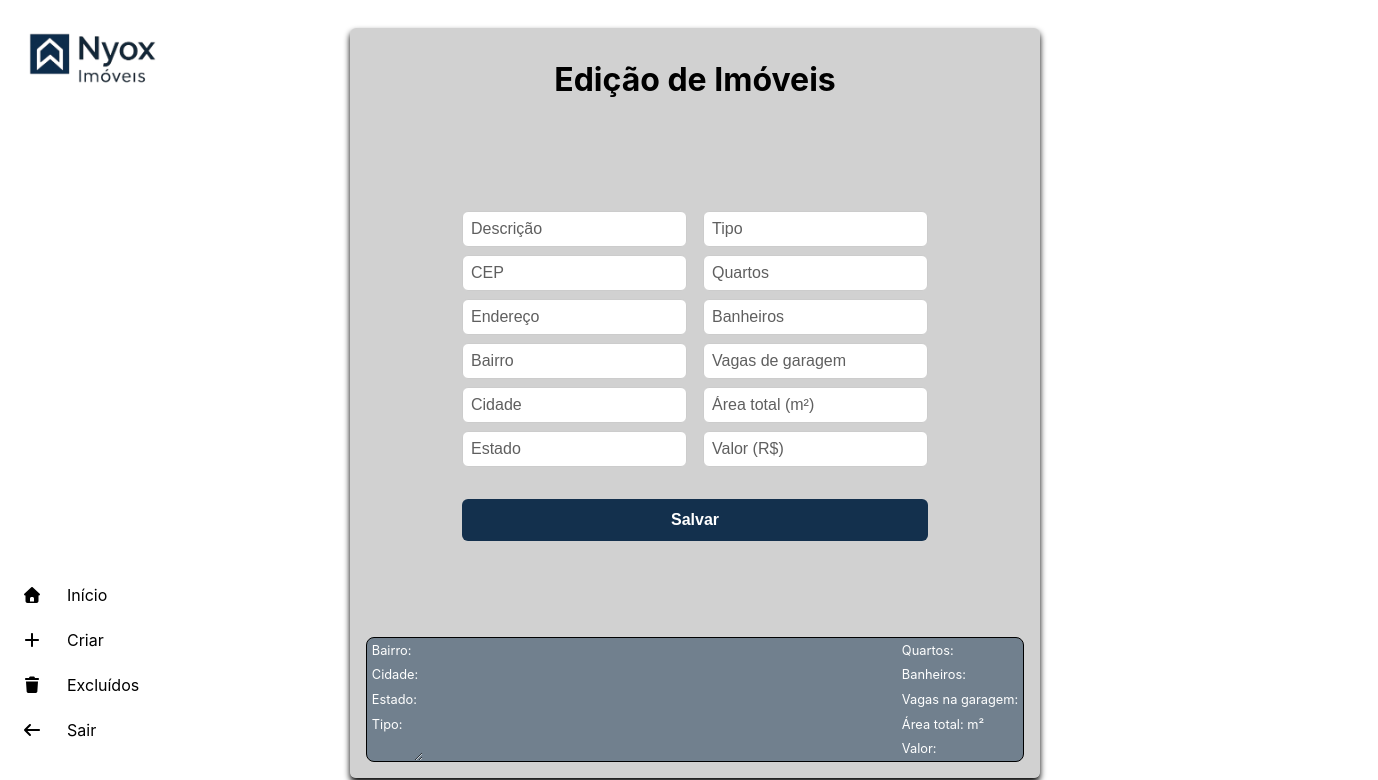
Scenario: EditItem Page › deve consultar CEP e preencher o endereço
Type "30000000" into the number field with placeholder "CEP".
click(574, 273); type("30000000")  # box x1=462 y1=255 x2=687 y2=291
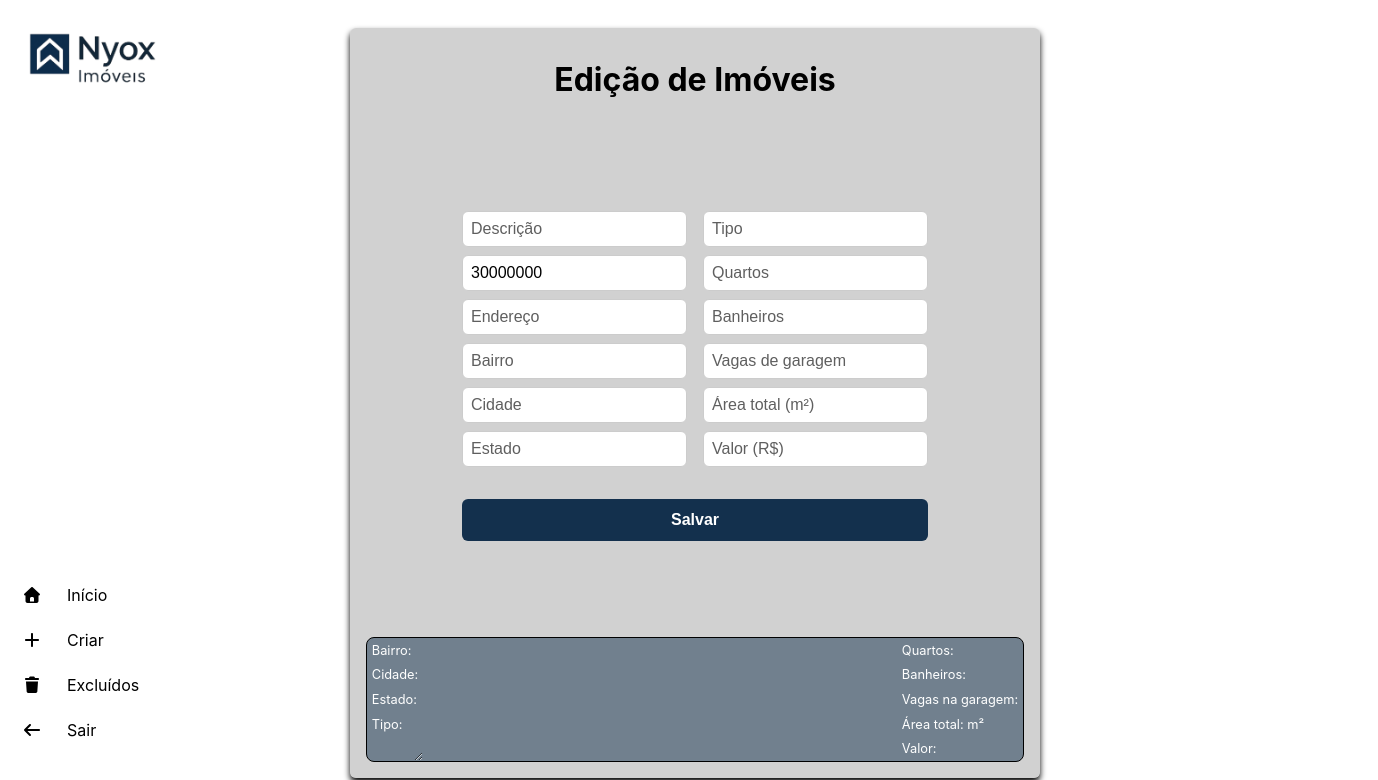
Leave the number field with placeholder "CEP", box x1=462 y1=255 x2=687 y2=291
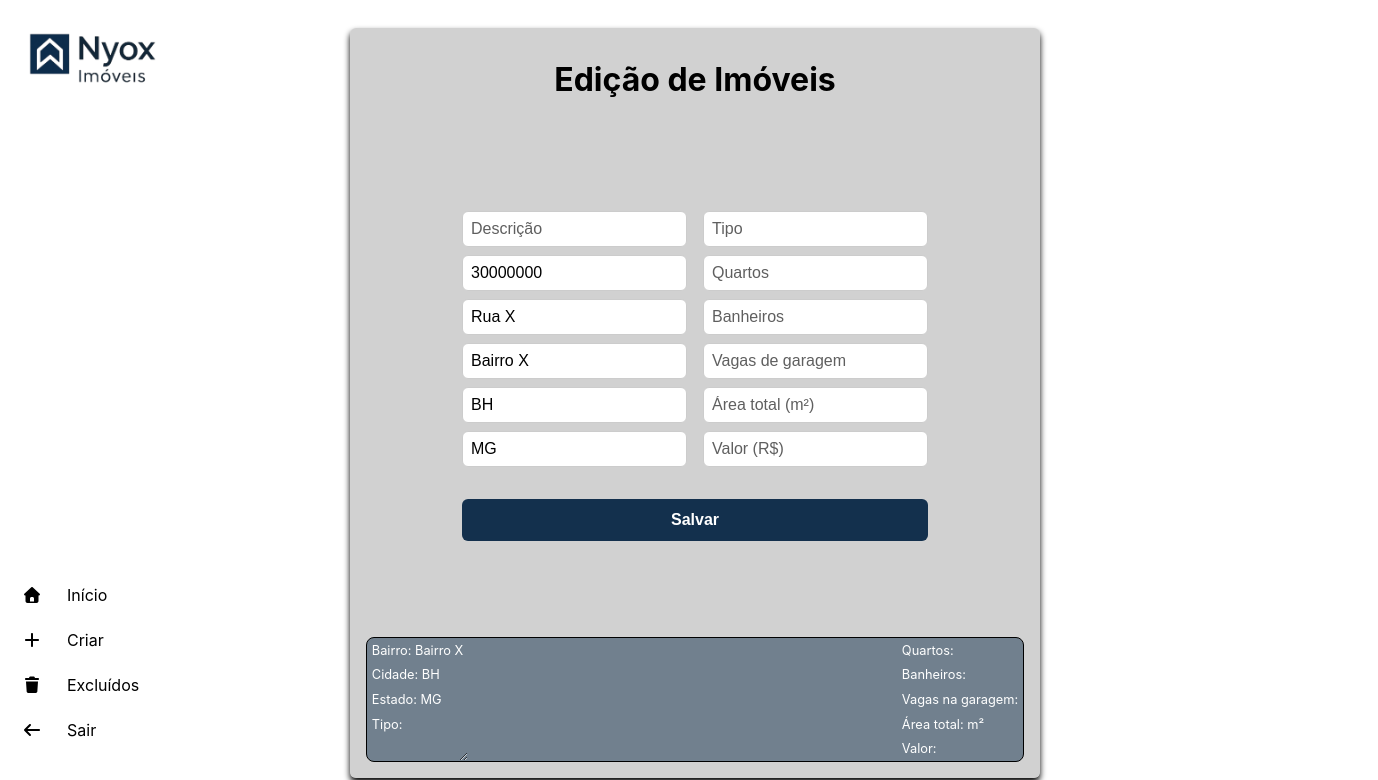
Expected: the 1st field with placeholder "Endereço" holds "Rua X", x1=462 y1=299 x2=687 y2=335
